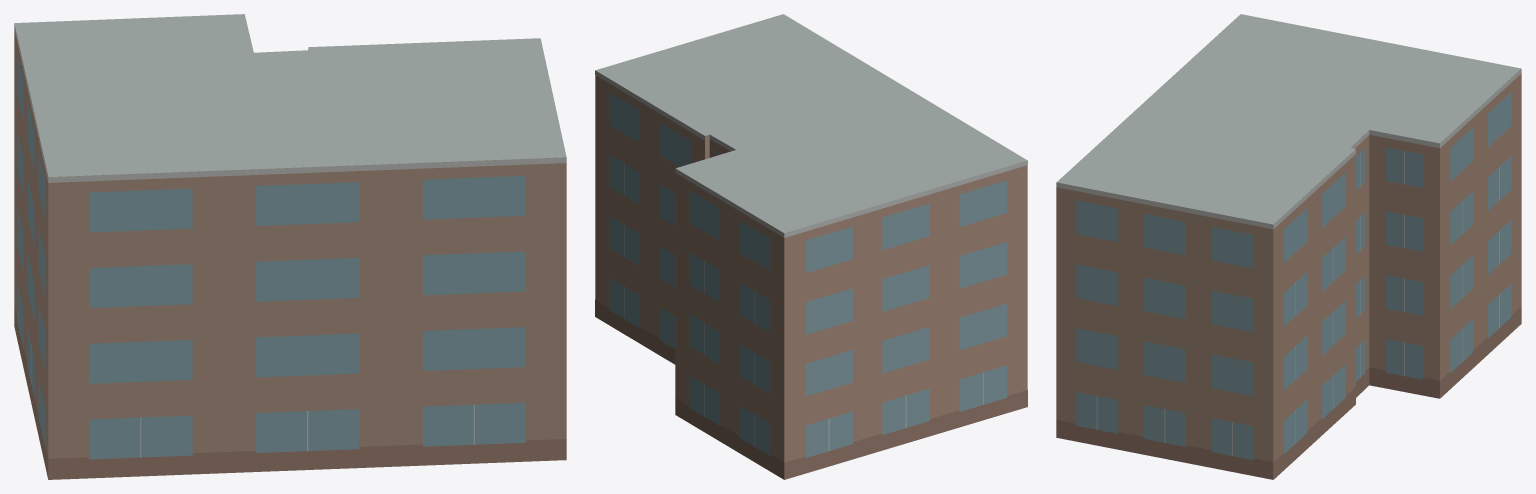
File: survey-upis-32725013.glb
3 views of the same model, side by side, from view 1: azimuth 30°, elevation 25°; view 2: azimuth 150°, elevation 25°; view 3: azimuth 270°, elevation 25° (orthographic). The views are drawn at different scales.
Parts seen in each view (by area): view 1: survey-upis-32725013.tmp; view 2: survey-upis-32725013.tmp; view 3: survey-upis-32725013.tmp.
Boxes of the visible parts, x1,y1,x2,y2 form: survey-upis-32725013.tmp: [14, 14, 566, 479]; survey-upis-32725013.tmp: [595, 14, 1027, 479]; survey-upis-32725013.tmp: [1056, 14, 1521, 479].
Bounding box in the file's own units: 22.83 × 12.9 × 21.31.
